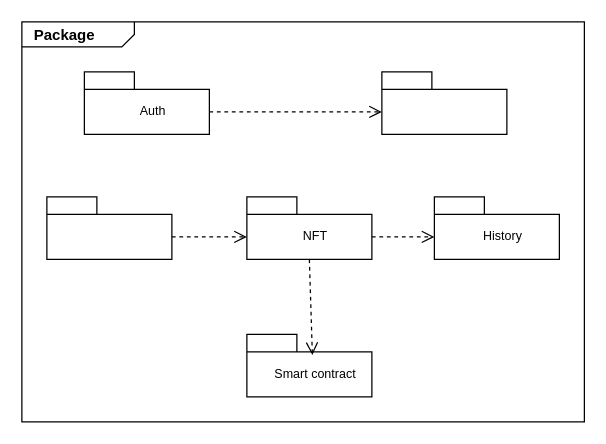
This 606x444 diagram has some shape labels left out. Each missing label, with the centre of its shape:
Upload: the point at 109,227
User: the point at 444,102
